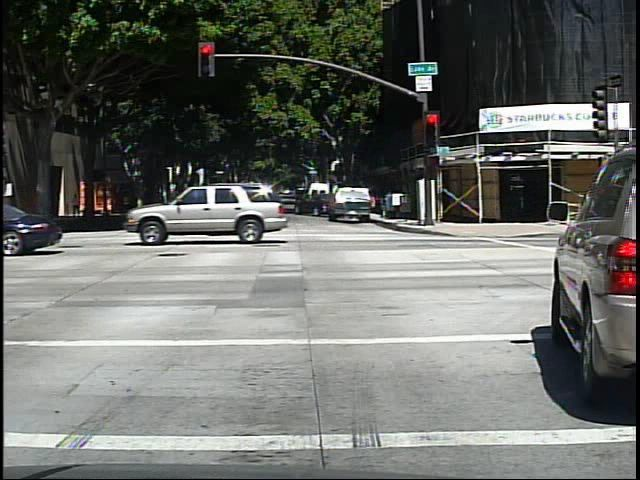person: (68, 188, 84, 224)
